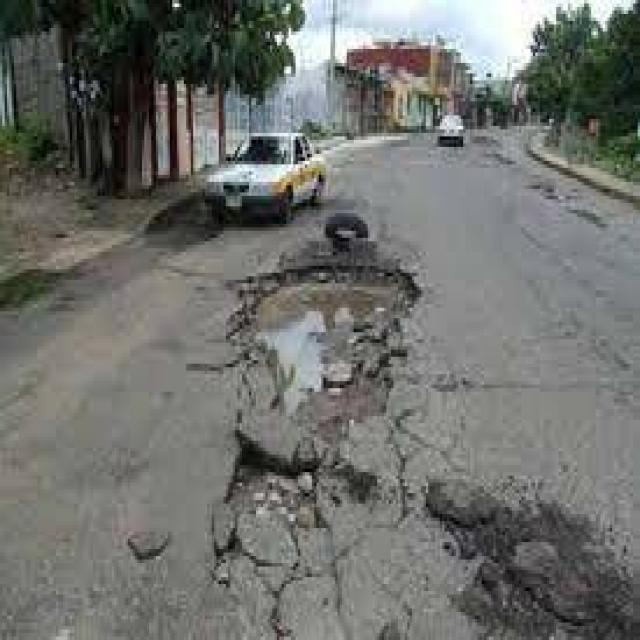Pothole: (165, 248, 428, 574)
